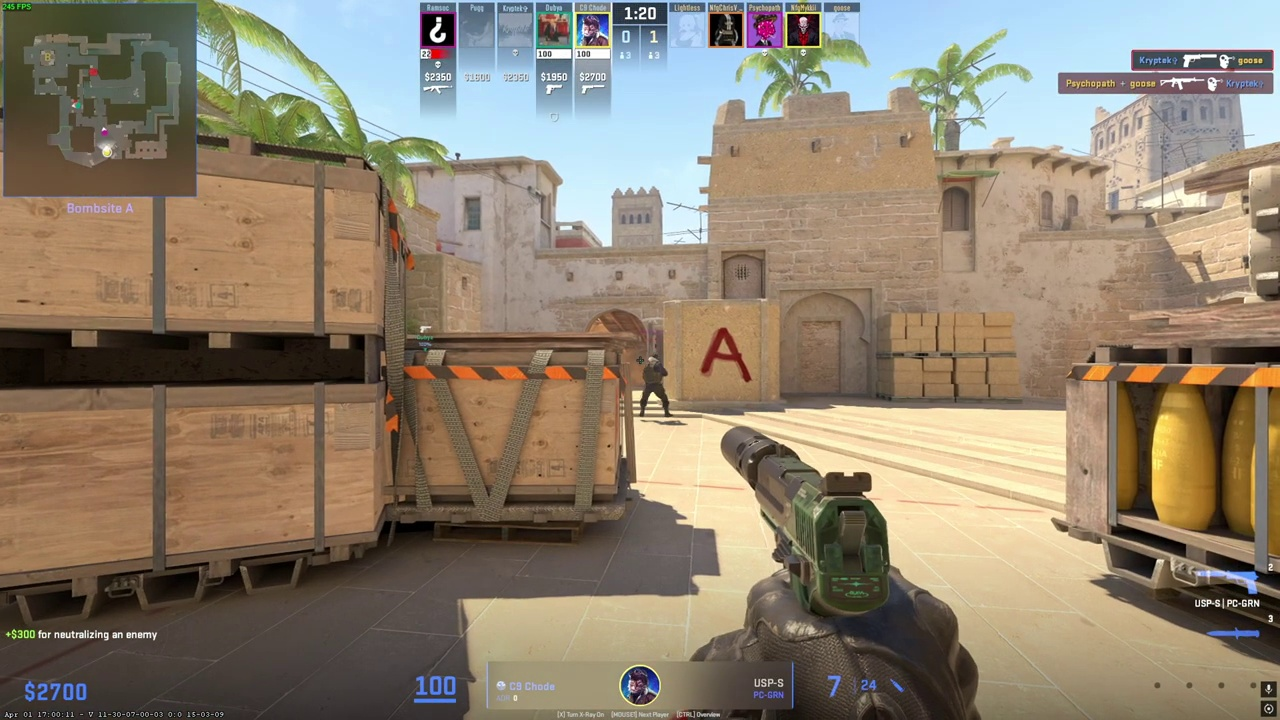CT: (639, 353, 670, 417)
